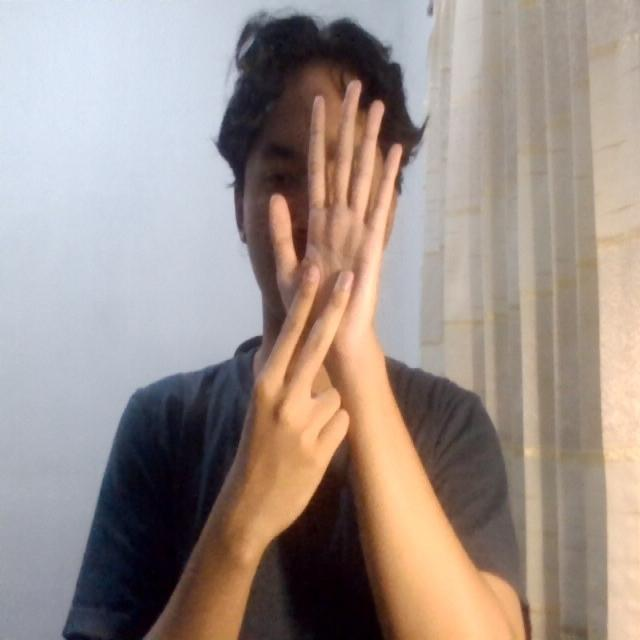IloveYou: (236, 60, 426, 485)
